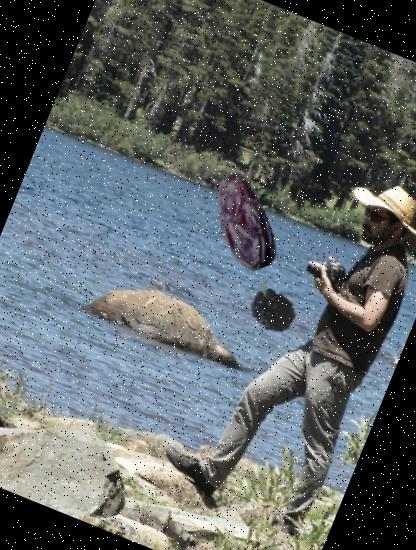Dates: (178, 157, 308, 286)
Mulberry: (232, 279, 304, 351)
